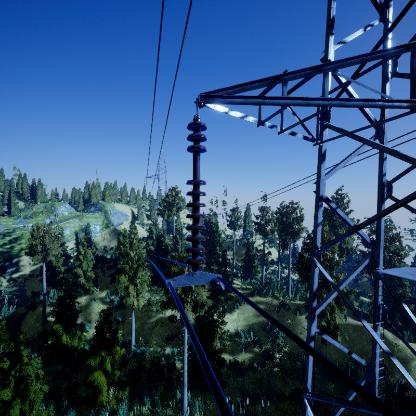insulator: (183, 119, 209, 271)
